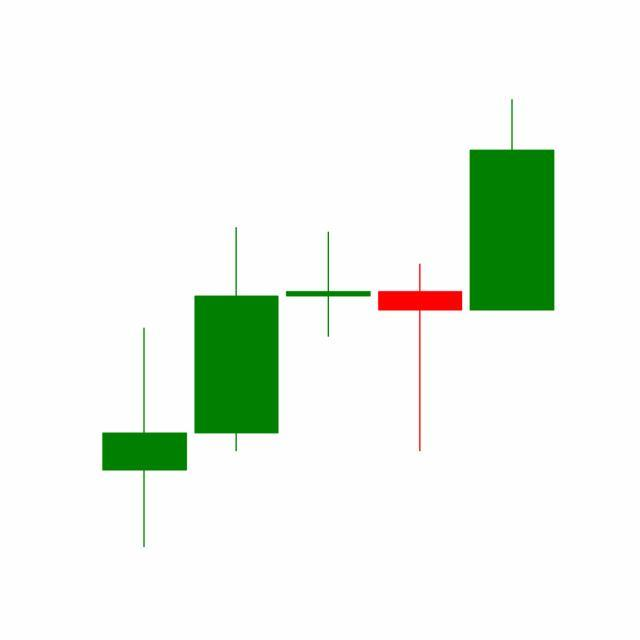Spinning Top: (374, 262, 468, 454)
